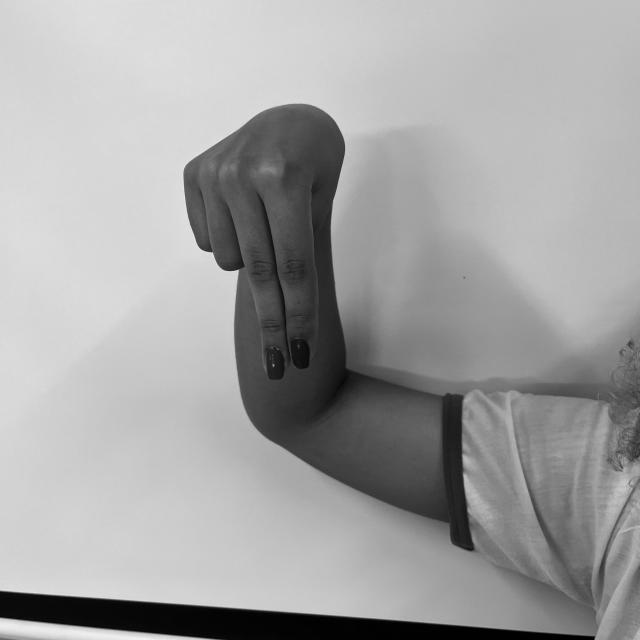Letra N: (177, 97, 348, 386)
